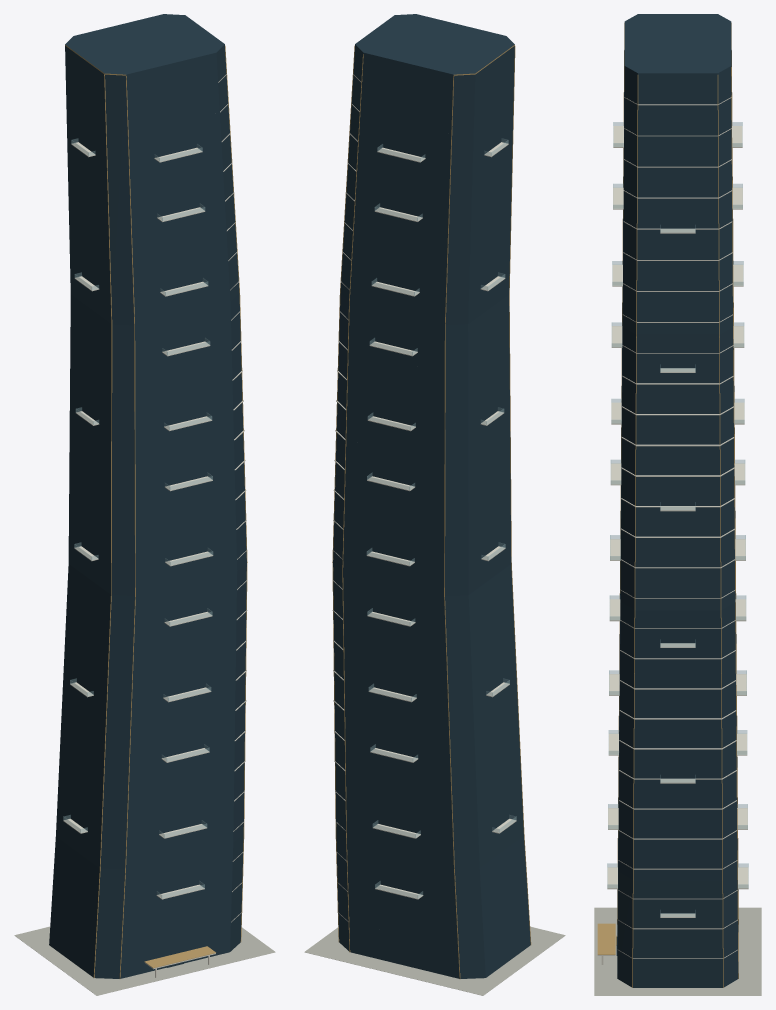
File: hk-ultra-02.glb
3 renders of one model, left to right at view 1: azimuth 30°, elevation 25°; view 2: azimuth 150°, elevation 25°; view 3: azimuth 270°, elevation 25°, orthographic.
Parts seen in each view (by area): view 1: HK-ULTRA-02-dark, HK-ULTRA-02-ivory, HK-ULTRA-02-gold, HK-ULTRA-02-stone, HK-ULTRA-02-glass; view 2: HK-ULTRA-02-dark, HK-ULTRA-02-gold, HK-ULTRA-02-ivory, HK-ULTRA-02-stone, HK-ULTRA-02-glass; view 3: HK-ULTRA-02-dark, HK-ULTRA-02-ivory, HK-ULTRA-02-gold, HK-ULTRA-02-stone, HK-ULTRA-02-glass.
Part boxes in pixels (box(x1,y1,x2,y2)): HK-ULTRA-02-dark: box(49, 14, 246, 978); HK-ULTRA-02-ivory: box(63, 74, 247, 977); HK-ULTRA-02-gold: box(65, 45, 247, 978); HK-ULTRA-02-stone: box(14, 926, 275, 995); HK-ULTRA-02-glass: box(63, 138, 213, 898); HK-ULTRA-02-dark: box(333, 14, 530, 978); HK-ULTRA-02-gold: box(332, 45, 531, 978); HK-ULTRA-02-ivory: box(332, 74, 516, 921); HK-ULTRA-02-stone: box(304, 926, 565, 995); HK-ULTRA-02-glass: box(366, 138, 516, 898); HK-ULTRA-02-dark: box(616, 14, 738, 987); HK-ULTRA-02-ivory: box(597, 97, 748, 964); HK-ULTRA-02-gold: box(597, 23, 738, 987); HK-ULTRA-02-stone: box(594, 907, 761, 995); HK-ULTRA-02-glass: box(607, 122, 748, 916).
Bounding box in the file's own units: 50 × 240 × 40.
